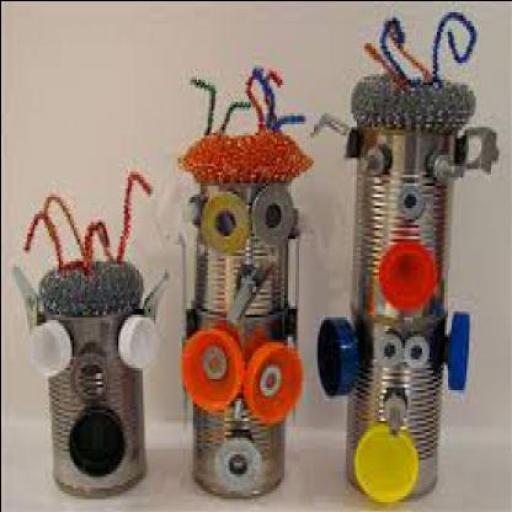metal: (37, 311, 151, 487), (346, 120, 448, 313), (339, 314, 443, 496), (186, 305, 285, 495), (196, 176, 286, 314), (344, 75, 472, 123), (31, 260, 140, 308)
